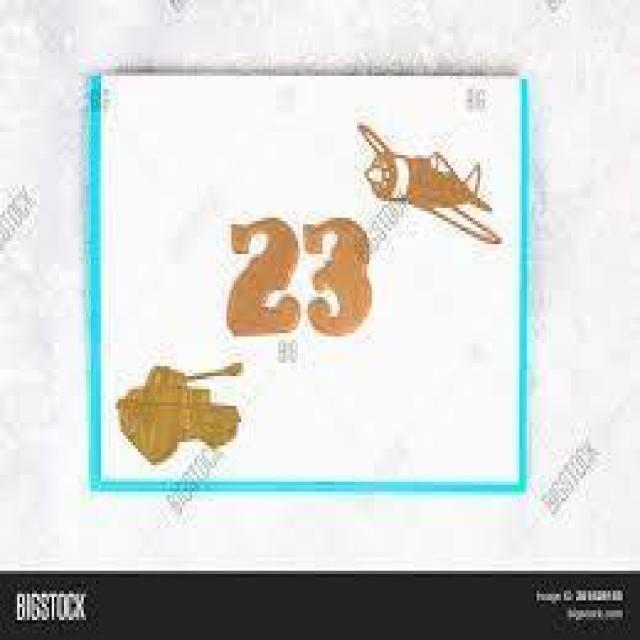Tanks: (117, 361, 245, 464)
